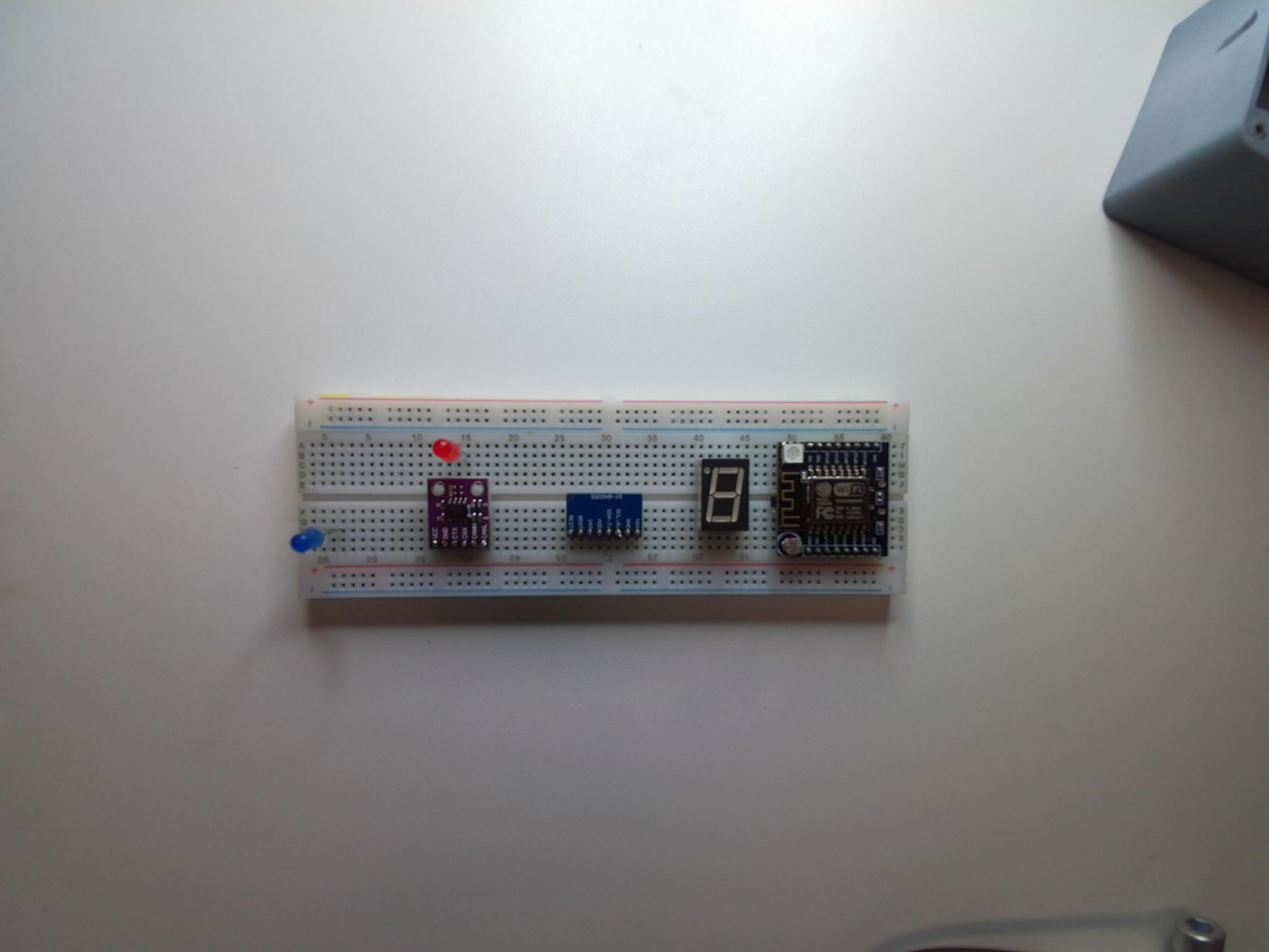base: (289, 397, 909, 596)
blue-board: (564, 493, 644, 544)
blue-led: (290, 525, 325, 552)
digit-board: (696, 456, 751, 534)
esp: (771, 436, 895, 561)
purple-board: (426, 475, 491, 552)
red-led: (426, 434, 465, 465)
